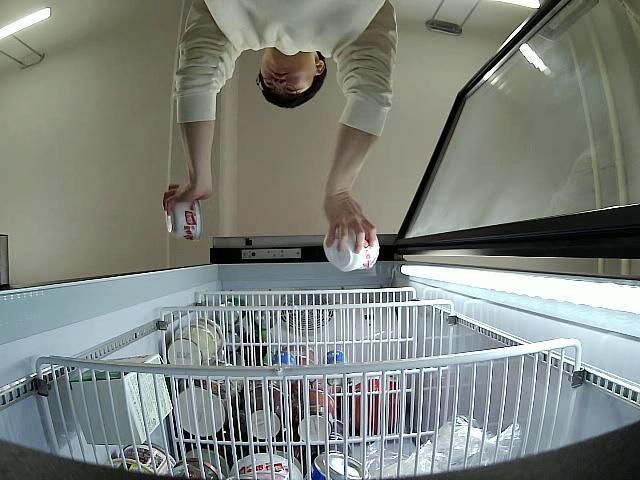09_yukGaeJang: (322, 226, 381, 272), (165, 196, 203, 242)
